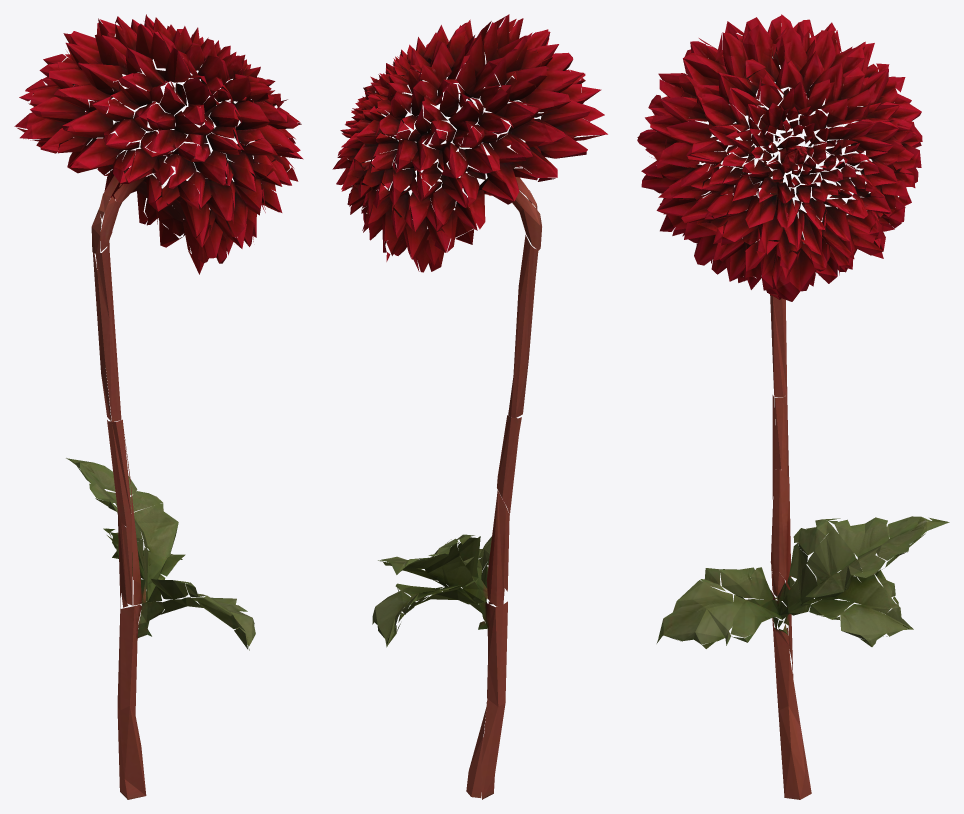
File: flor_02_dalia.glb
3 renders of one model, left to right at view 1: azimuth 30°, elevation 25°; view 2: azimuth 150°, elevation 25°; view 3: azimuth 270°, elevation 25°, orthographic. The views are drawn at different scales.
Parts seen in each view (by area): view 1: tripo_node_b1e173e9-79d3-4c2f-be9f-60ff24eb9ce6; view 2: tripo_node_b1e173e9-79d3-4c2f-be9f-60ff24eb9ce6; view 3: tripo_node_b1e173e9-79d3-4c2f-be9f-60ff24eb9ce6.
Boxes of the visible parts, x1,y1,x2,y2 form: tripo_node_b1e173e9-79d3-4c2f-be9f-60ff24eb9ce6: [14, 14, 303, 799]; tripo_node_b1e173e9-79d3-4c2f-be9f-60ff24eb9ce6: [332, 14, 607, 799]; tripo_node_b1e173e9-79d3-4c2f-be9f-60ff24eb9ce6: [637, 14, 949, 799].
Size of the model in its own units: 0.3281 by 1 by 0.3659.
Materials: 1 (1 with a texture image).
